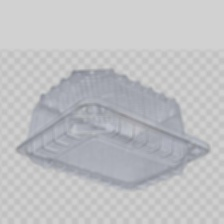plastic_box: (9, 64, 213, 199)
